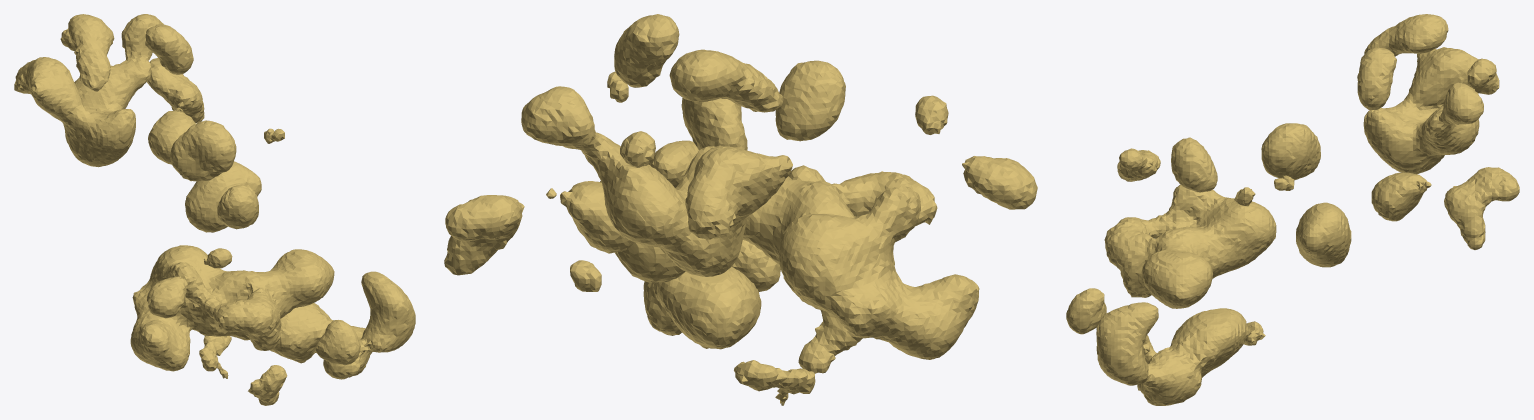
File: latent_occ_p95.glb
The picture shows the model from 3 angles, left to right: view 1: azimuth 30°, elevation 25°; view 2: azimuth 150°, elevation 25°; view 3: azimuth 270°, elevation 25°; orthographic projection. The views are drawn at different scales.
Parts seen in each view (by area): view 1: world; view 2: world; view 3: world.
Boxes of the visible parts, box(x1,y1,x2,y2) form: world: box(14, 14, 415, 405); world: box(444, 14, 1037, 405); world: box(1066, 14, 1519, 405).
Bounding box in the file's own units: 6.45 × 7.44 × 9.34.
